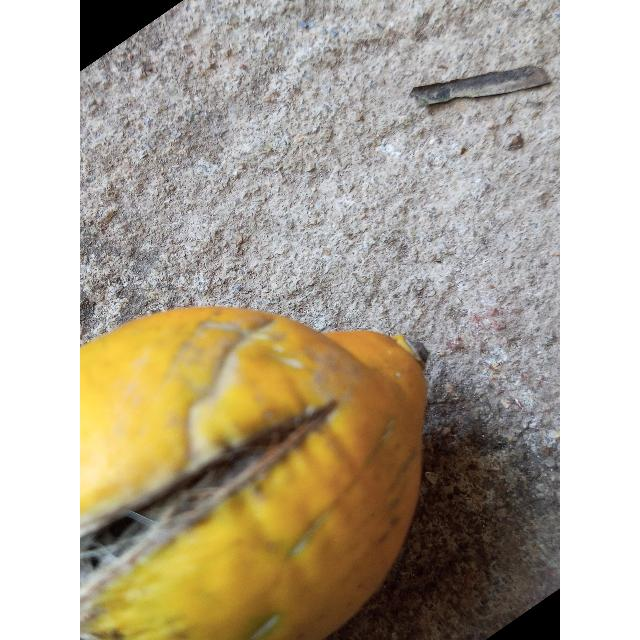damaged: (80, 307, 428, 640)
